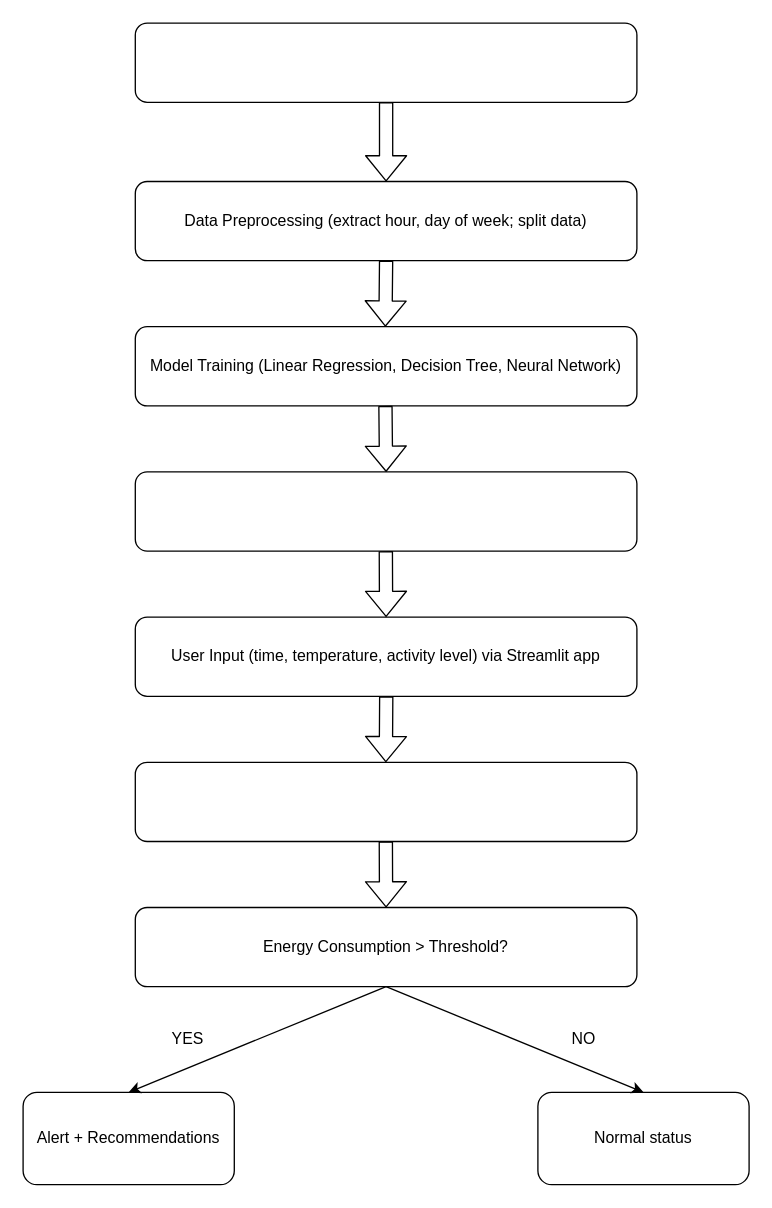
Image size: 772x1208. Some labels were removed from this diagram. Here are the shapes that lost their labels. From the top down, the box of each, then its label:
(134, 22, 637, 102): Raw Data (timestamp, temperature, user_activity_level, energy_consumption)
(134, 471, 637, 551): Model Evaluation (RMSE comparison)
(134, 761, 637, 842): Prediction using selected model
